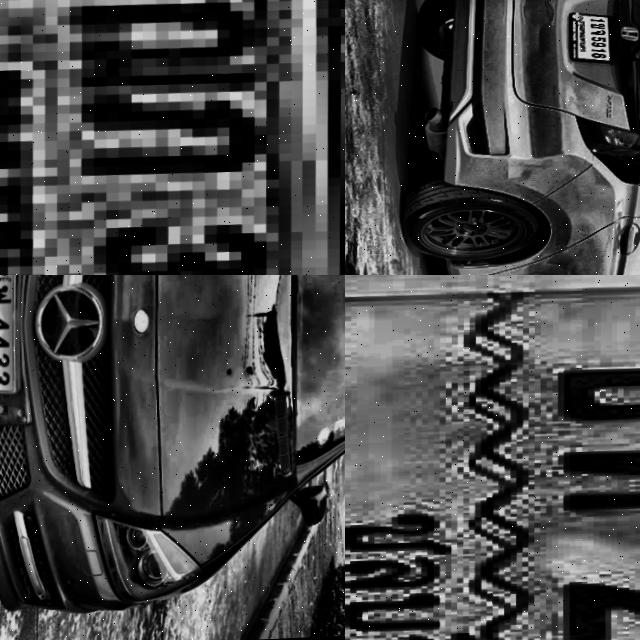license-plate: (345, 275, 640, 640), (0, 0, 345, 275), (560, 11, 620, 68), (0, 275, 24, 400)
